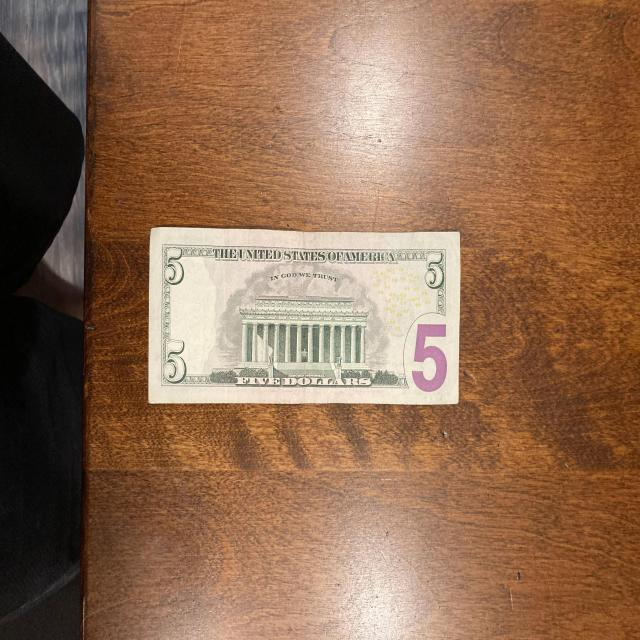five: (148, 226, 461, 404)
